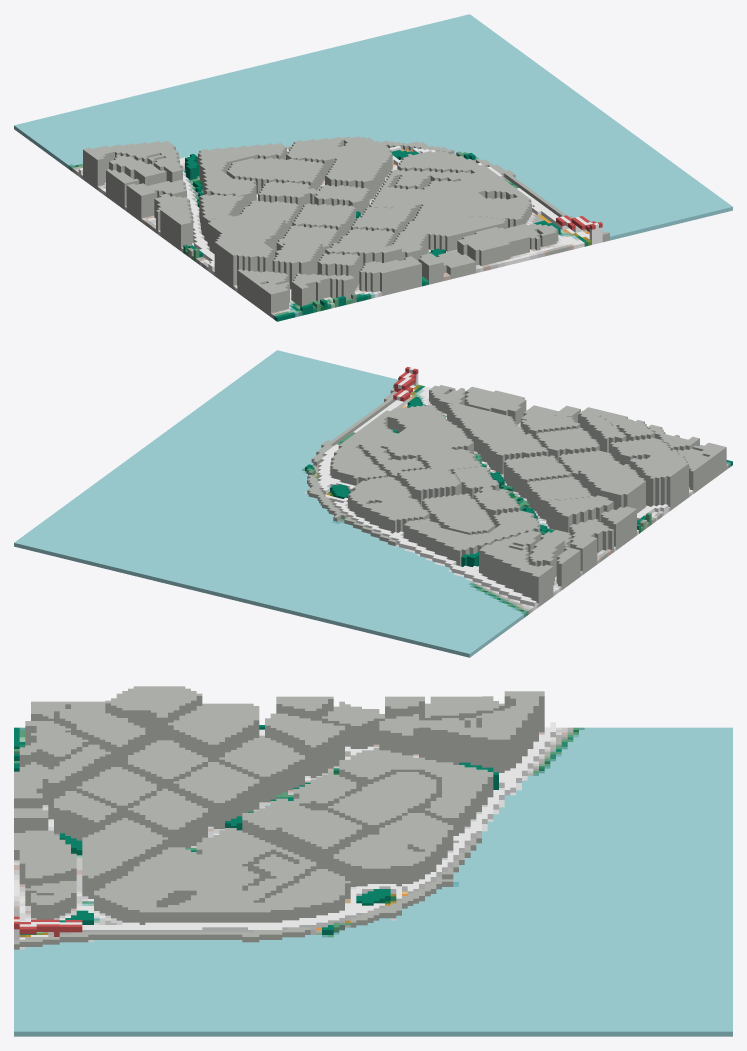
Rendered from 210508macau-10.obj.
3 views of the same model, one above another, from view 1: azimuth 30°, elevation 25°; view 2: azimuth 150°, elevation 25°; view 3: azimuth 270°, elevation 25° (orthographic). The views are drawn at different scales.
Size of the model in its own units: 12.6 by 0.9 by 12.6.
1 material, 1 textured.
